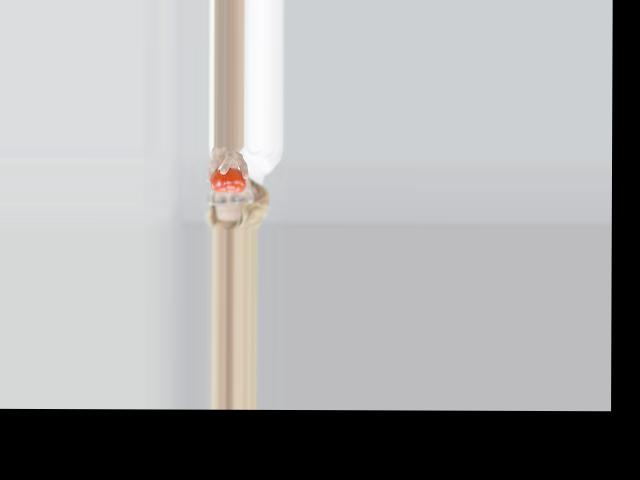tomato: (211, 167, 247, 192)
